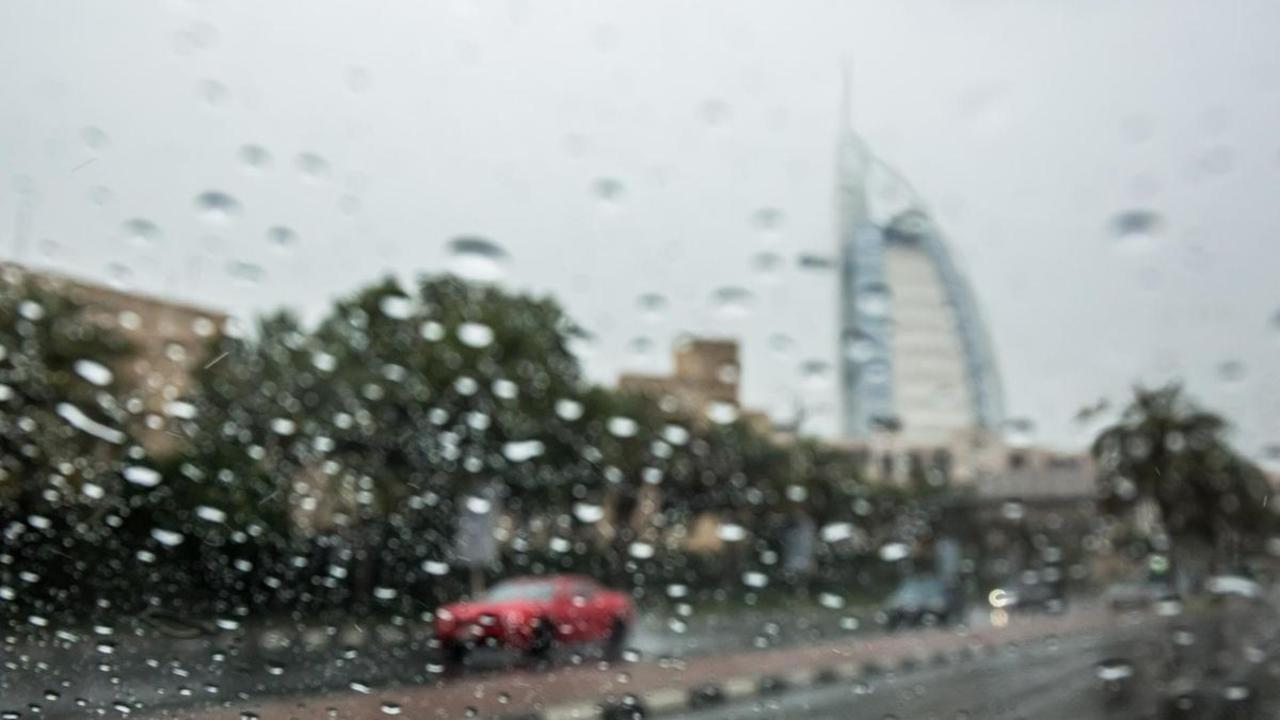car: (430, 568, 632, 655)
